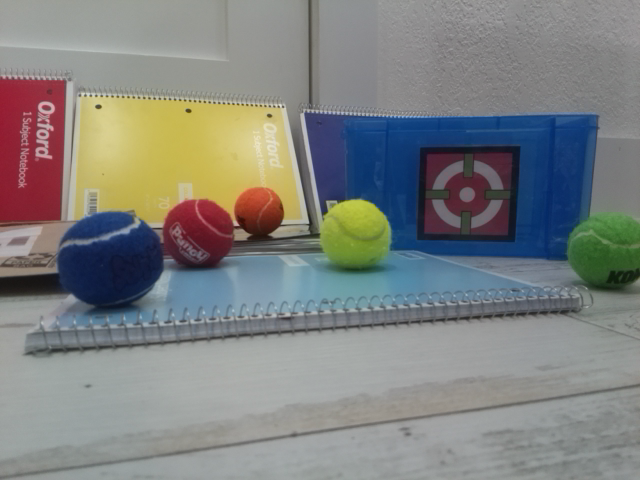blue-ball: (56, 210, 165, 311)
drop-bin: (416, 146, 521, 243)
green-ball: (566, 212, 640, 290)
orange-ball: (233, 185, 286, 235)
red-ball: (162, 197, 233, 268)
yellow-ball: (318, 197, 392, 271)
